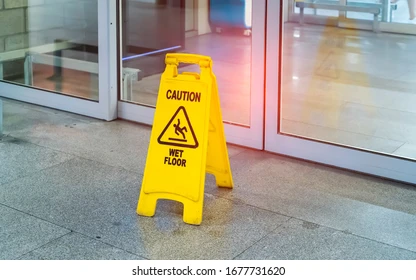wet caution sign: (131, 56, 230, 219)
